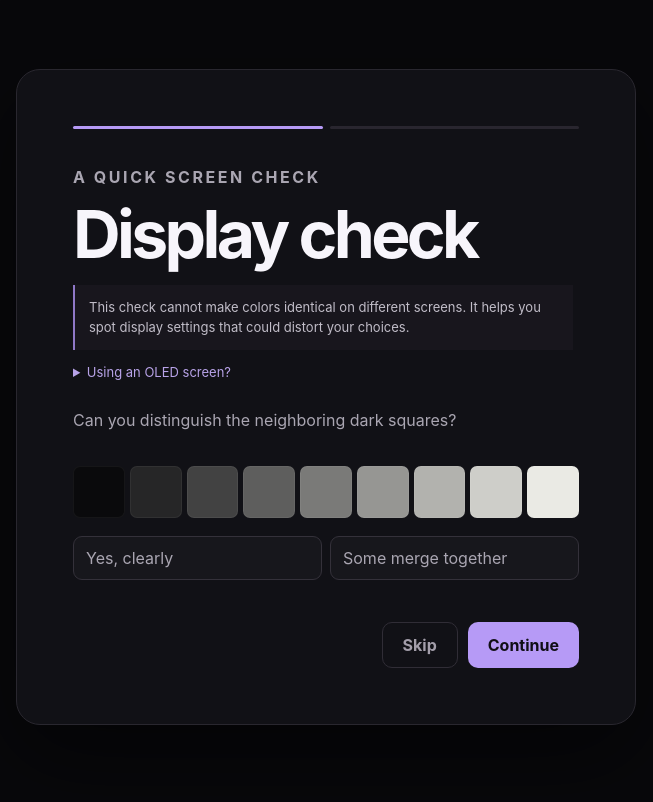
Test: first-run display check › includes practical OLED guidance without claiming automatic correction
The width and height of the screenshot is (653, 802).
Click the heading "Using an OLED screen?".
click(152, 372)  # box [73,364,231,380]
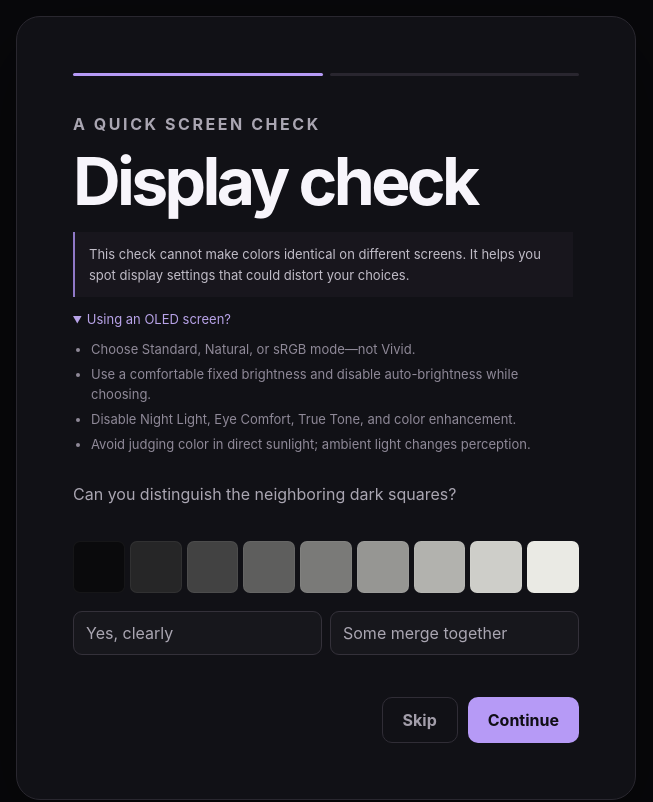
Expected: the list item "Choose Standard, Natural, or sRGB mode—not Vivid." is shown, [91,341,415,357]
Expected: the 2nd list item is shown, [91,366,518,402]
